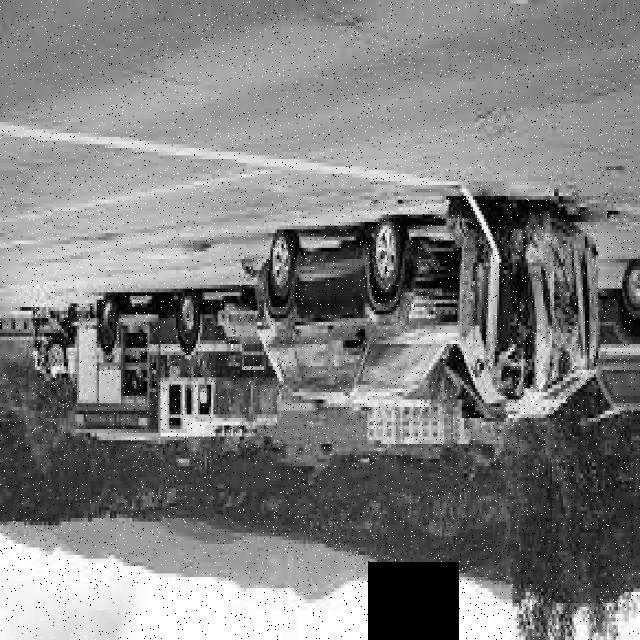severe: (250, 194, 602, 420)
